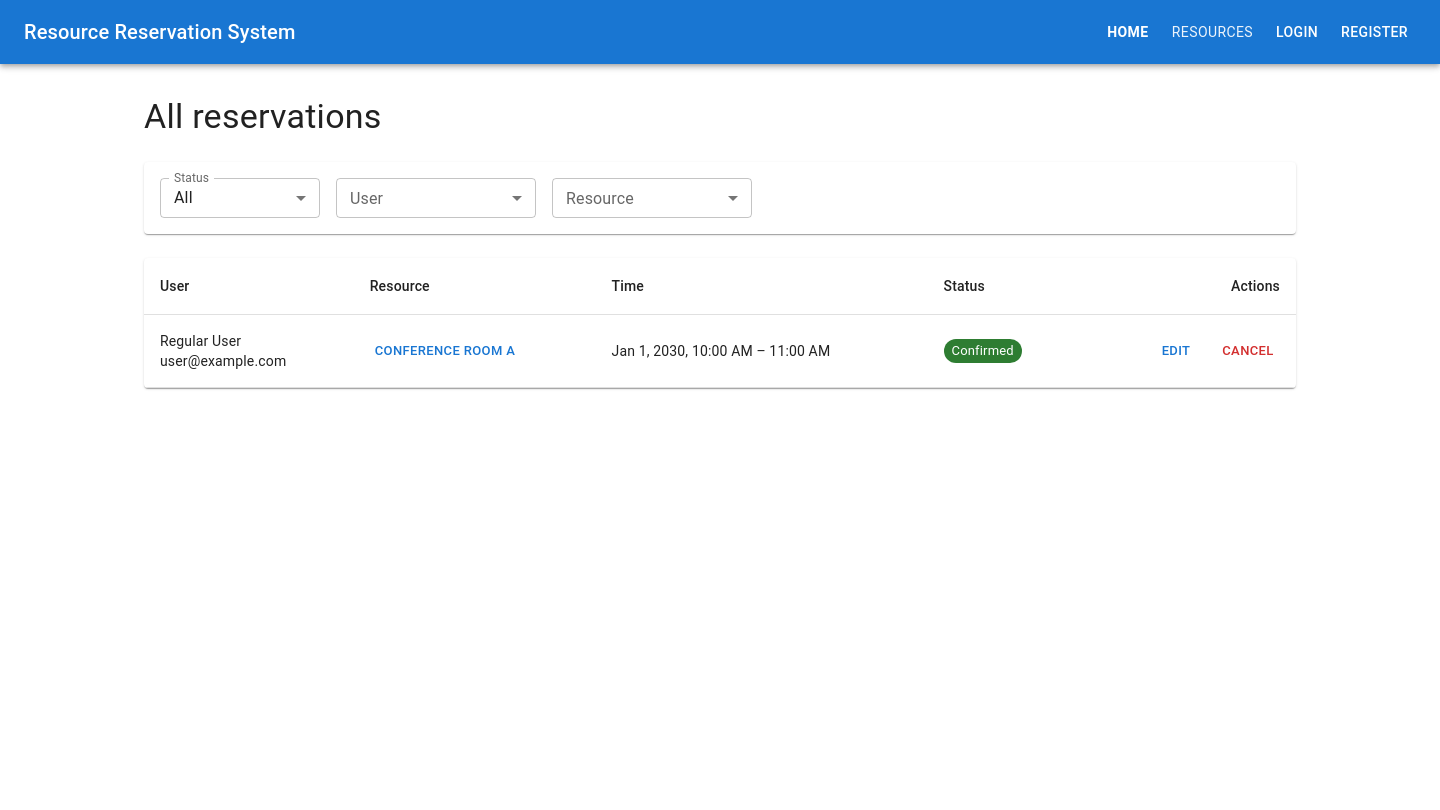
Test case: AdminReservationsPage › opens edit dialog from admin row action
expect the link "Conference Room A" is shown: met, box [375,343,515,358]
Step 1. Click the button "Edit" → {"x": 1176, "y": 351}, box [1144,336,1208,366]
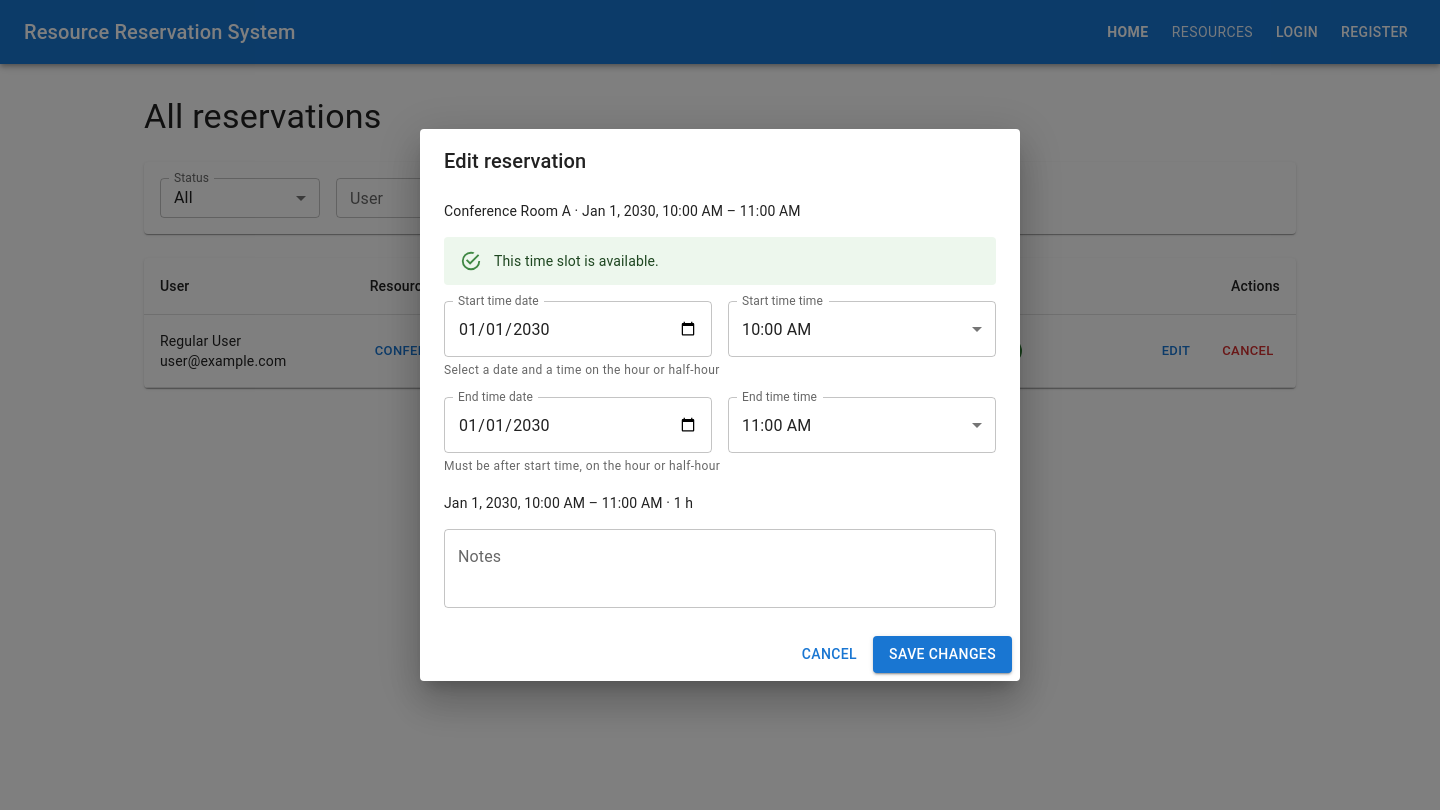
expect the heading "Edit reservation" is shown: met, box [444,149,586,173]
